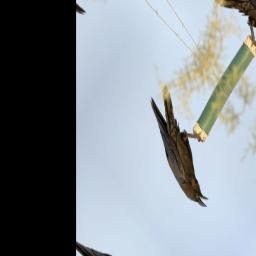Crow: (130, 78, 231, 220)
